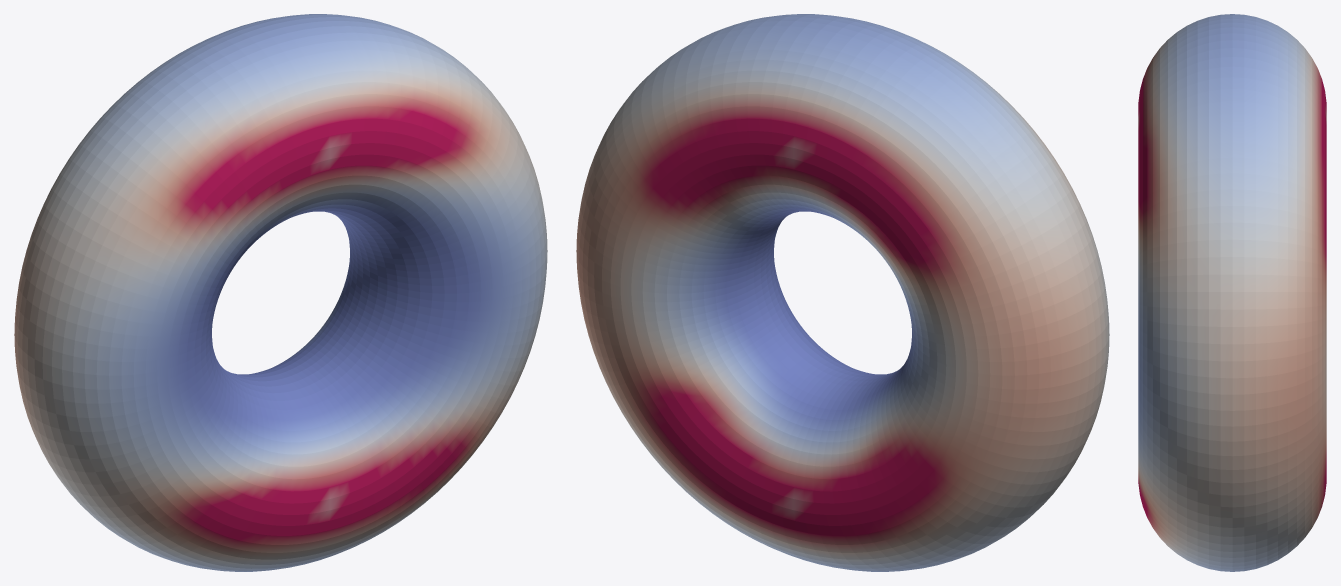
3 renders of one model, left to right at view 1: azimuth 30°, elevation 25°; view 2: azimuth 150°, elevation 25°; view 3: azimuth 270°, elevation 25°, orthographic. The views are drawn at different scales.
Parts seen in each view (by area): view 1: world; view 2: world; view 3: world.
Part boxes in pixels (left/top/right/bottom): world: left=14, top=14, right=547, bottom=571; world: left=576, top=14, right=1109, bottom=571; world: left=1138, top=14, right=1326, bottom=571.
Bounding box in the file's own units: 20.13 × 20.13 × 6.79.
